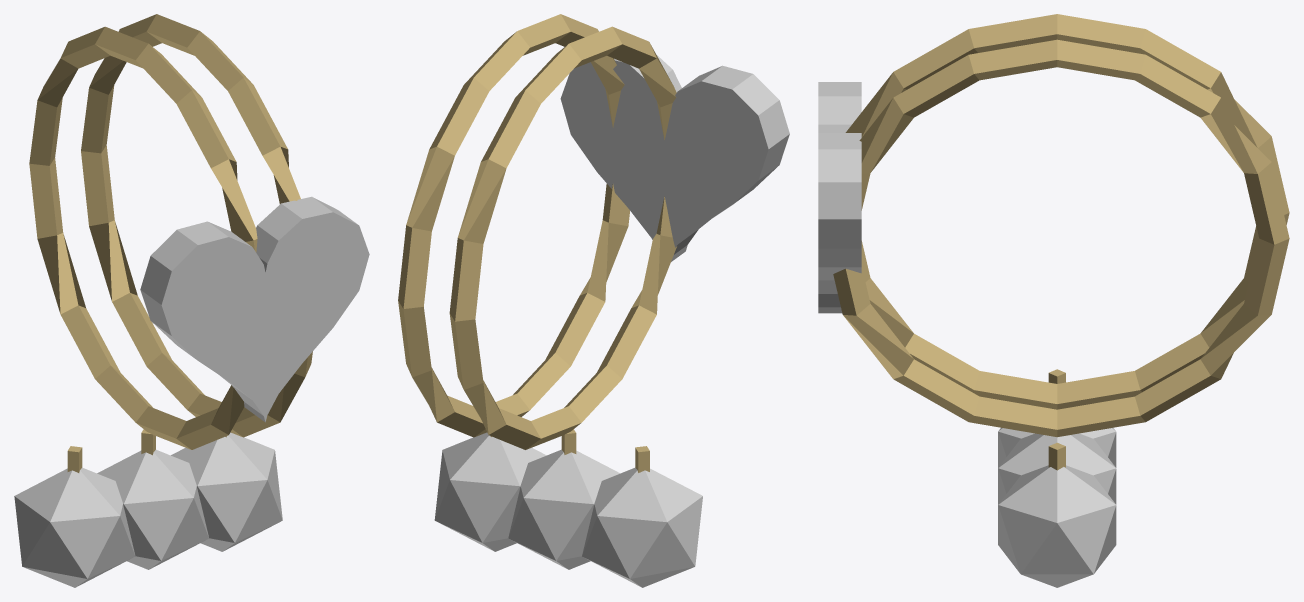
The model's file is acc_bracelet_charm_v01.glb.
The picture shows the model from 3 angles, left to right: view 1: azimuth 30°, elevation 25°; view 2: azimuth 150°, elevation 25°; view 3: azimuth 270°, elevation 25°; orthographic projection. The views are drawn at different scales.
Parts seen in each view (by area): view 1: acc_bracelet_charm; view 2: acc_bracelet_charm; view 3: acc_bracelet_charm.
Part boxes in pixels (x1,y1,x2,y2): acc_bracelet_charm: (14,14,369,587); acc_bracelet_charm: (398,14,789,587); acc_bracelet_charm: (818,14,1289,587).
Size of the model in its own units: 0.0686 by 0.1365 by 0.1085.
